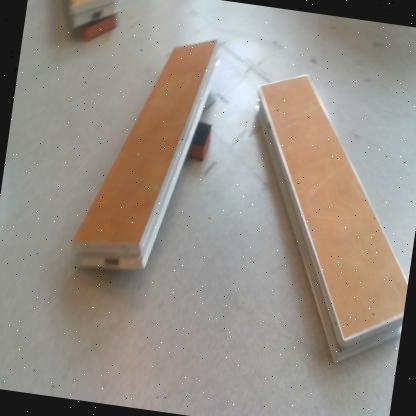Stairs: (254, 74, 409, 366), (70, 40, 220, 272), (67, 1, 118, 29)
